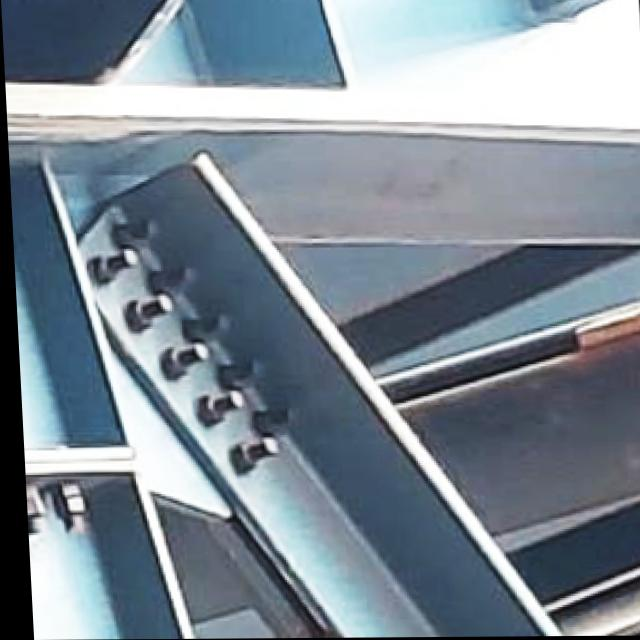Regular bolt: (159, 341, 207, 379), (127, 292, 174, 328), (194, 390, 243, 424), (230, 437, 276, 468)
